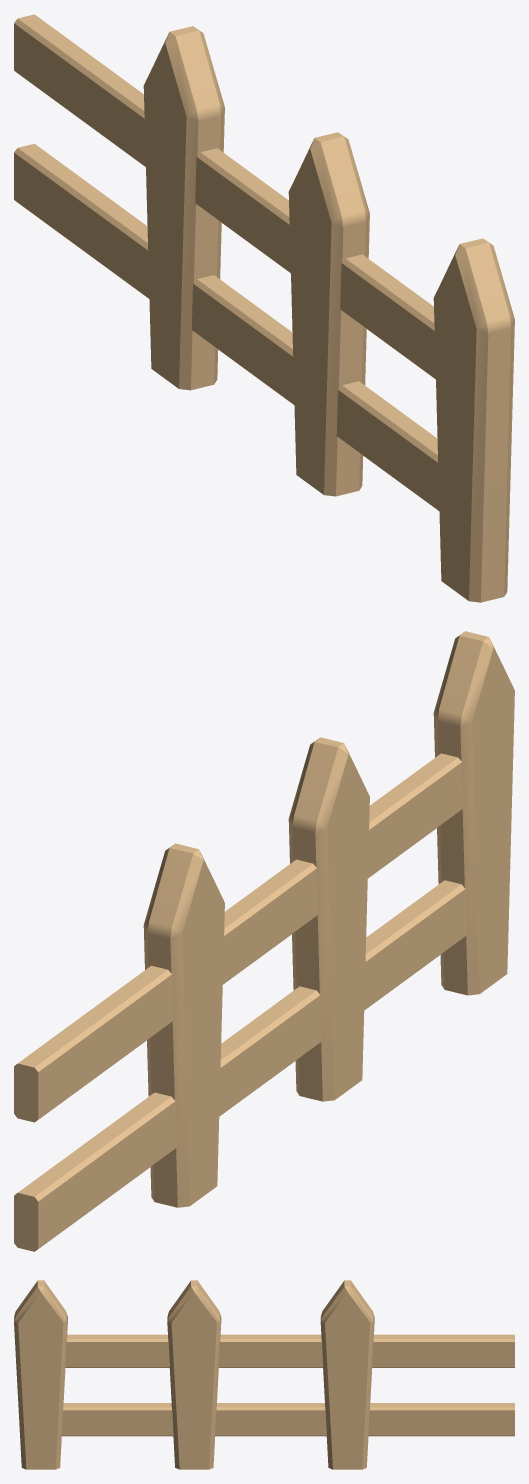
Rendered from fence_tile_2.fbx.
The picture shows the model from 3 angles, top to bottom: view 1: azimuth 30°, elevation 25°; view 2: azimuth 150°, elevation 25°; view 3: azimuth 270°, elevation 25°; orthographic projection. The views are drawn at different scales.
Parts seen in each view (by area): view 1: fence_looping1; view 2: fence_looping1; view 3: fence_looping1.
Boxes of the visible parts, <box> form: fence_looping1: <box>14,14,514,602</box>; fence_looping1: <box>14,631,514,1251</box>; fence_looping1: <box>14,1280,514,1469</box>.
Bounding box in the file's own units: 0.3058 × 2.61 × 6.53.
